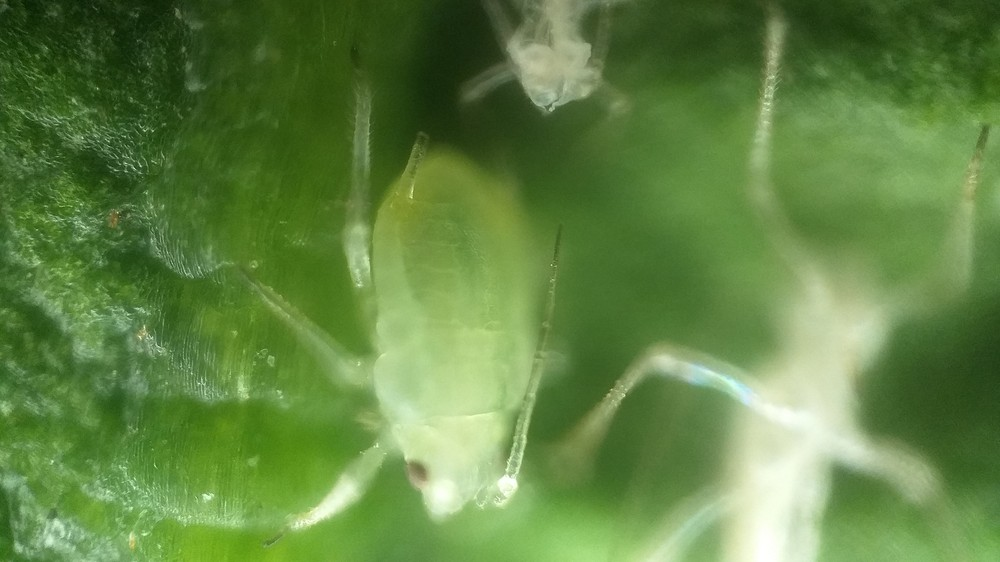Pulgon: (246, 68, 601, 546)
